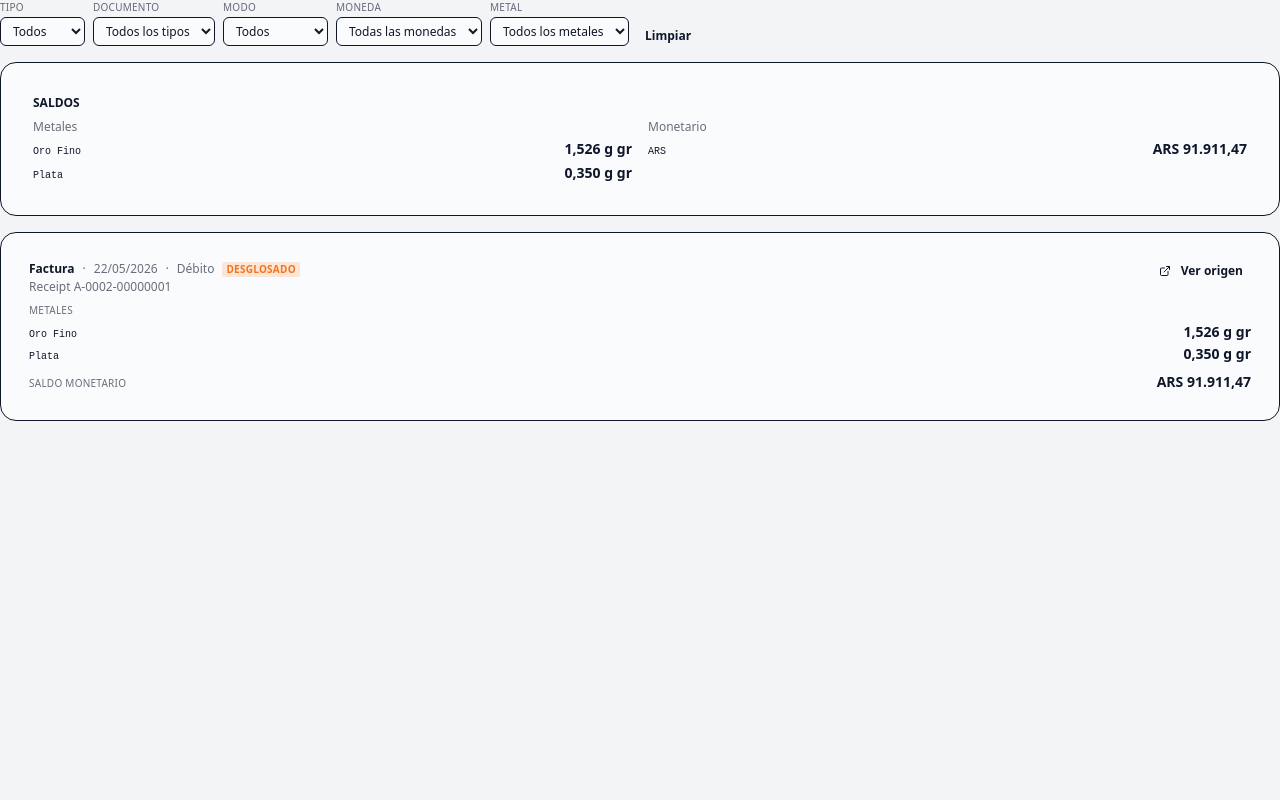
Test: EntityBalanceMovementsView — modal Ver origen (Fase 4.4) › click en 'Ver origen' abre el modal con el origen del movimiento
Click the button with test id "movement-view-origin-mov-b1" at (1201, 271), box [1151,261,1251,281]
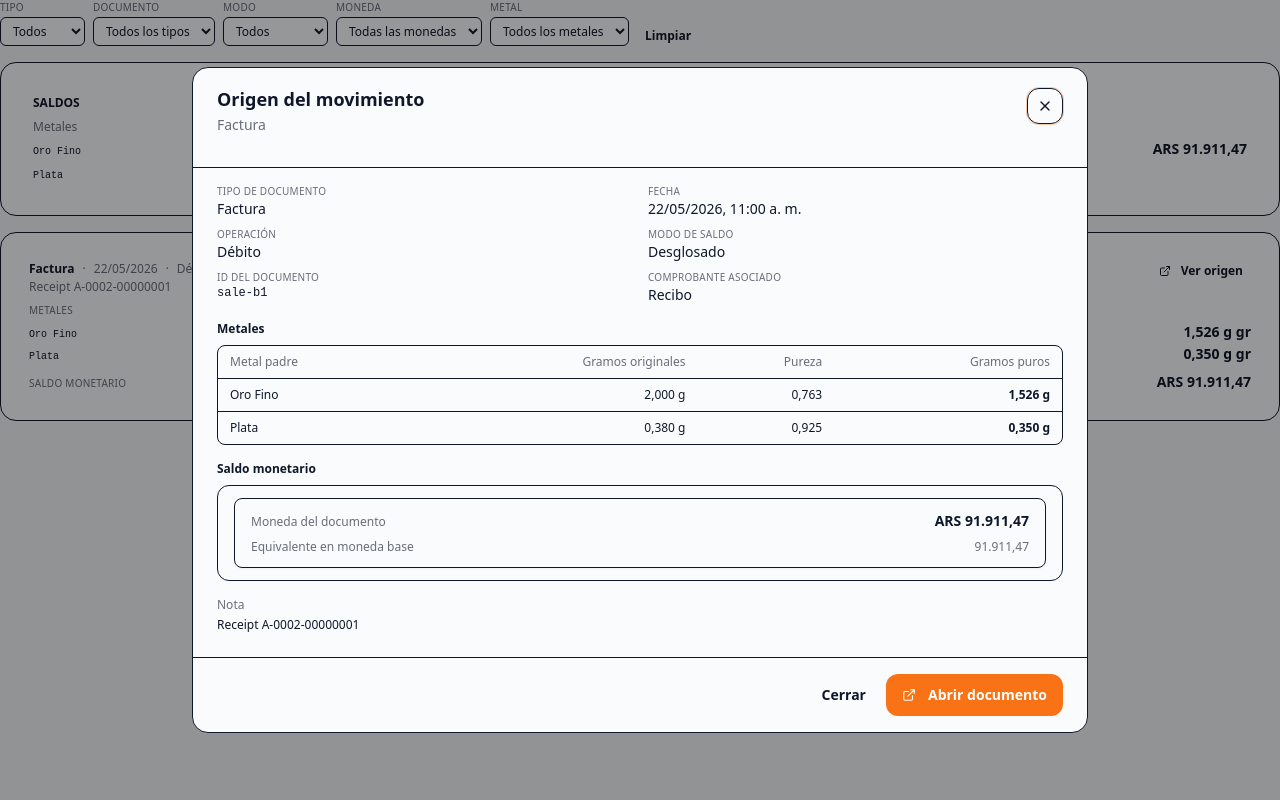
Expected: the element with test id "origin-modal-body" is shown, [217,184,1063,633]
